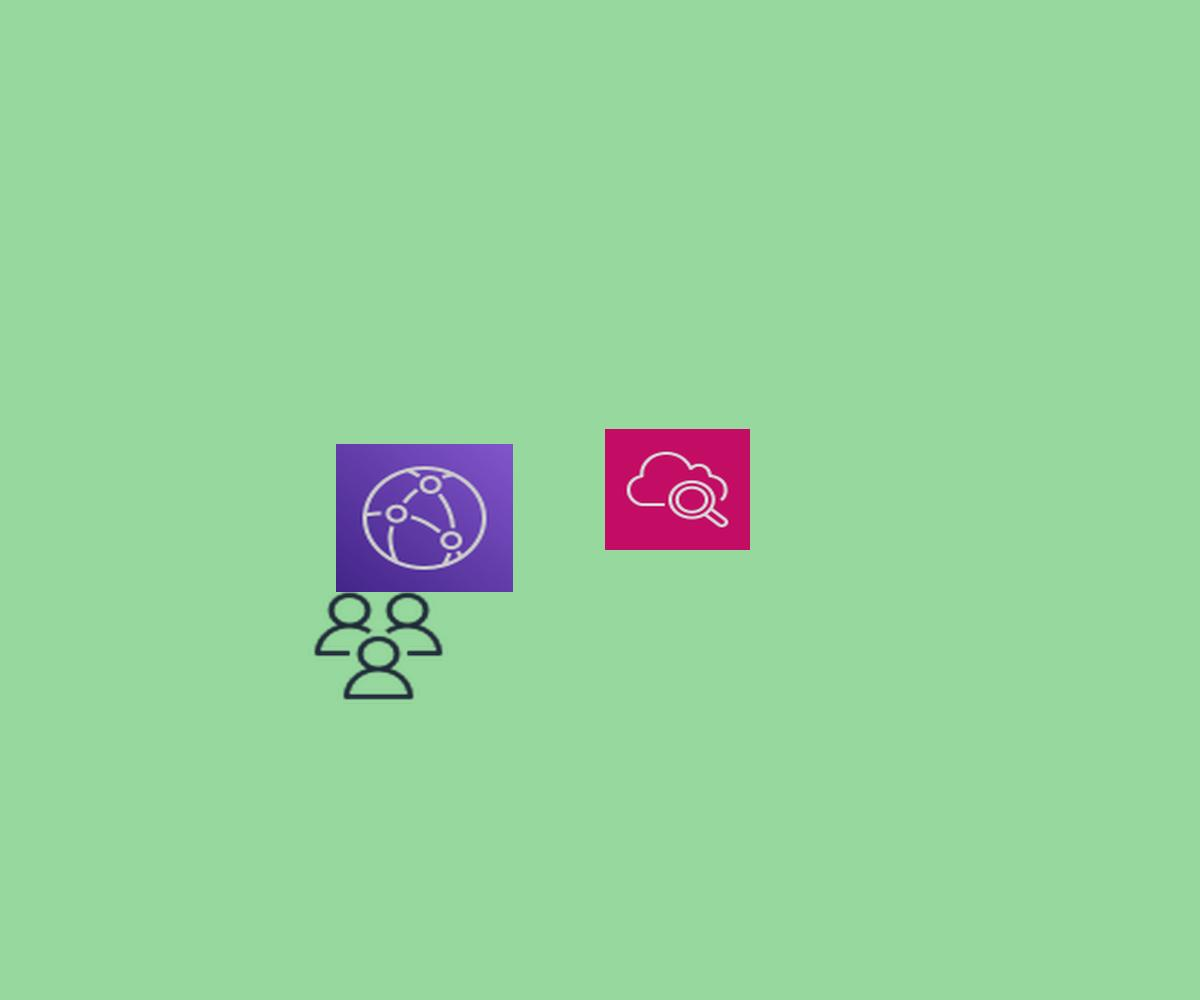AWS-CloudFront: (336, 444, 513, 592)
AWS-CloudWatch: (605, 429, 750, 550)
AWS-Res_Users: (309, 588, 448, 704)
